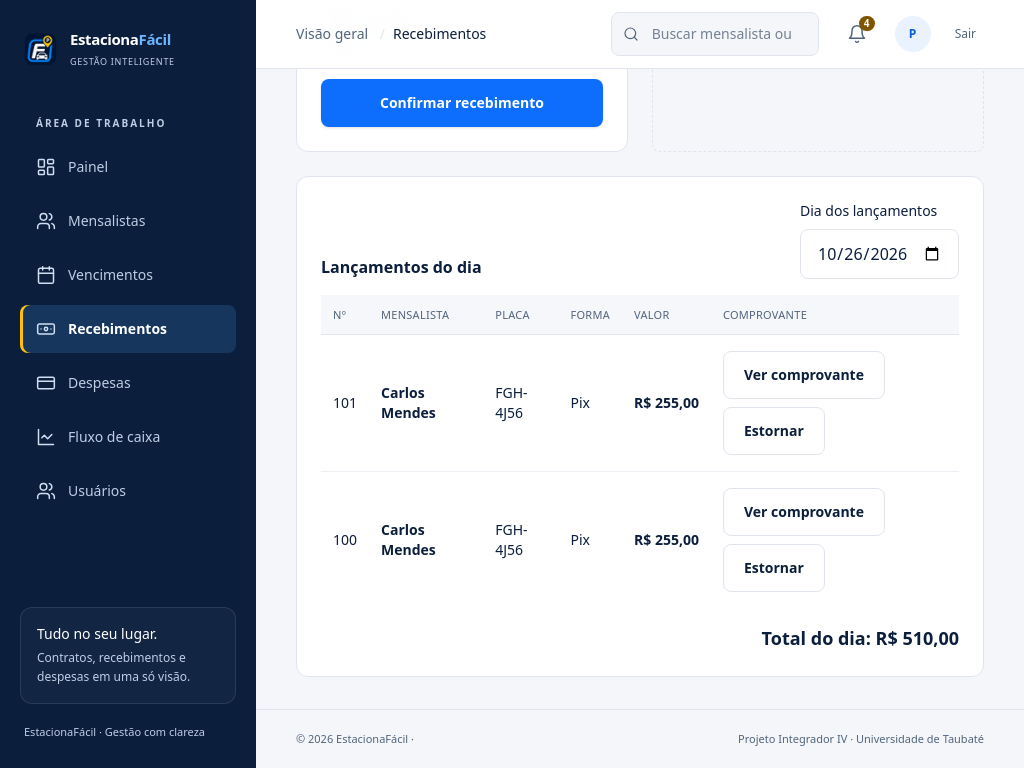
Test: estorno de recebimento › estornar um recebimento que não é o mais recente mostra o erro no diálogo
The width and height of the screenshot is (1024, 768).
(page scrolled)
Click the button with aria-label "Estornar recebimento 100" at coordinates (774, 568), box [723,544,825,592]
(page scrolled)
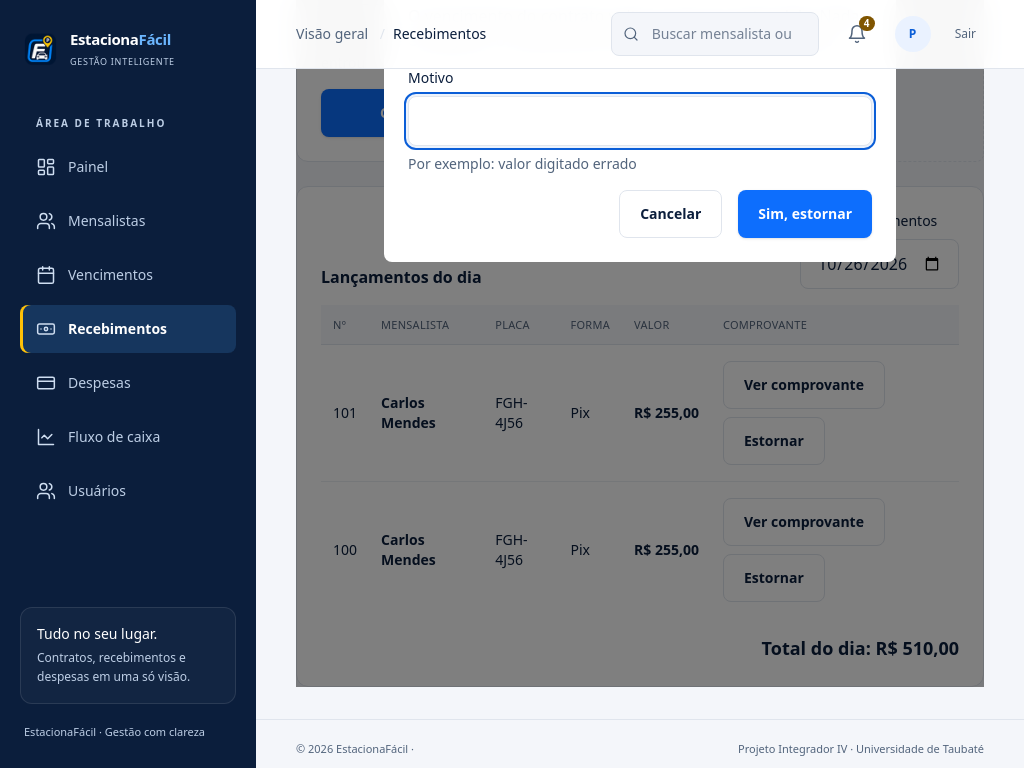
Type "Valor digitado errado" into the field labelled "Motivo" at coordinates (640, 121), box [408,96,872,146]
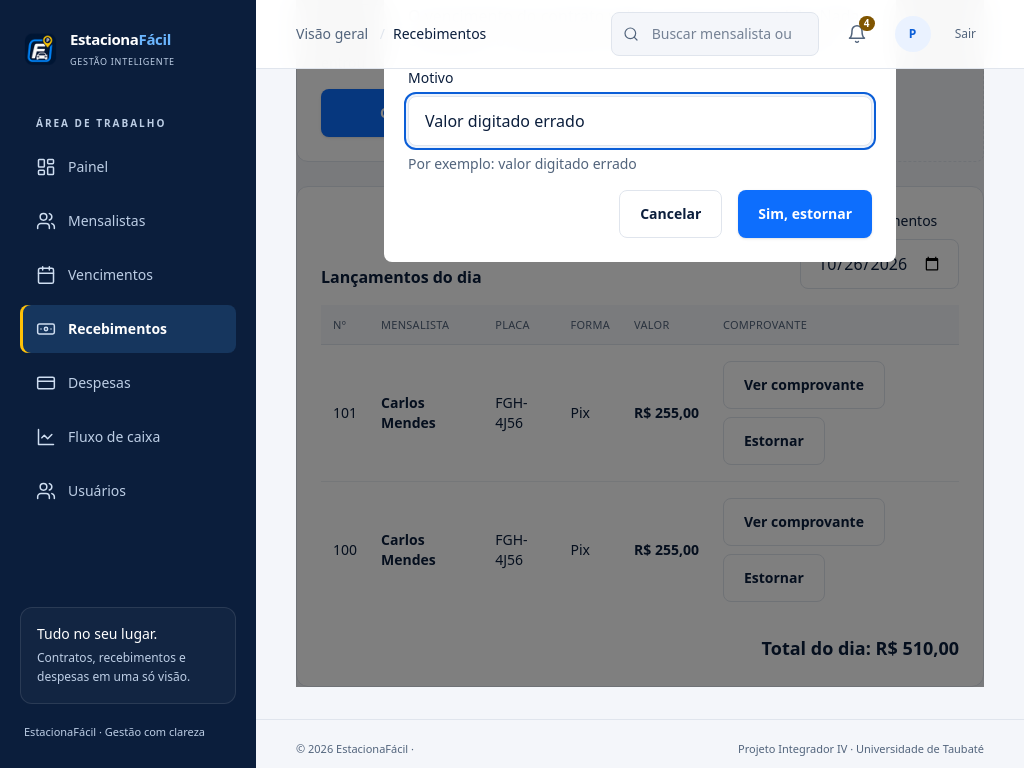
Click the button "Sim, estornar" at coordinates (805, 214), box [738,190,872,238]
(page scrolled)
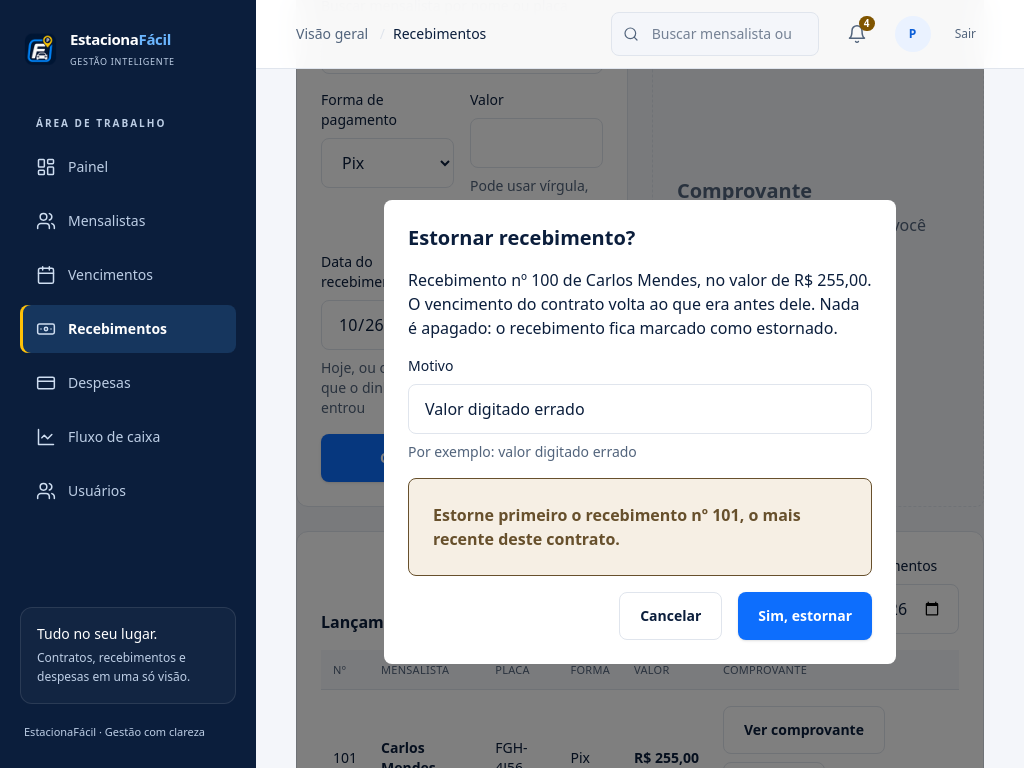
Check: the dialog is shown, box [384,200,896,664]
Check: the text "Estorne primeiro o recebimento nº 101" is shown, box [433,504,801,550]
